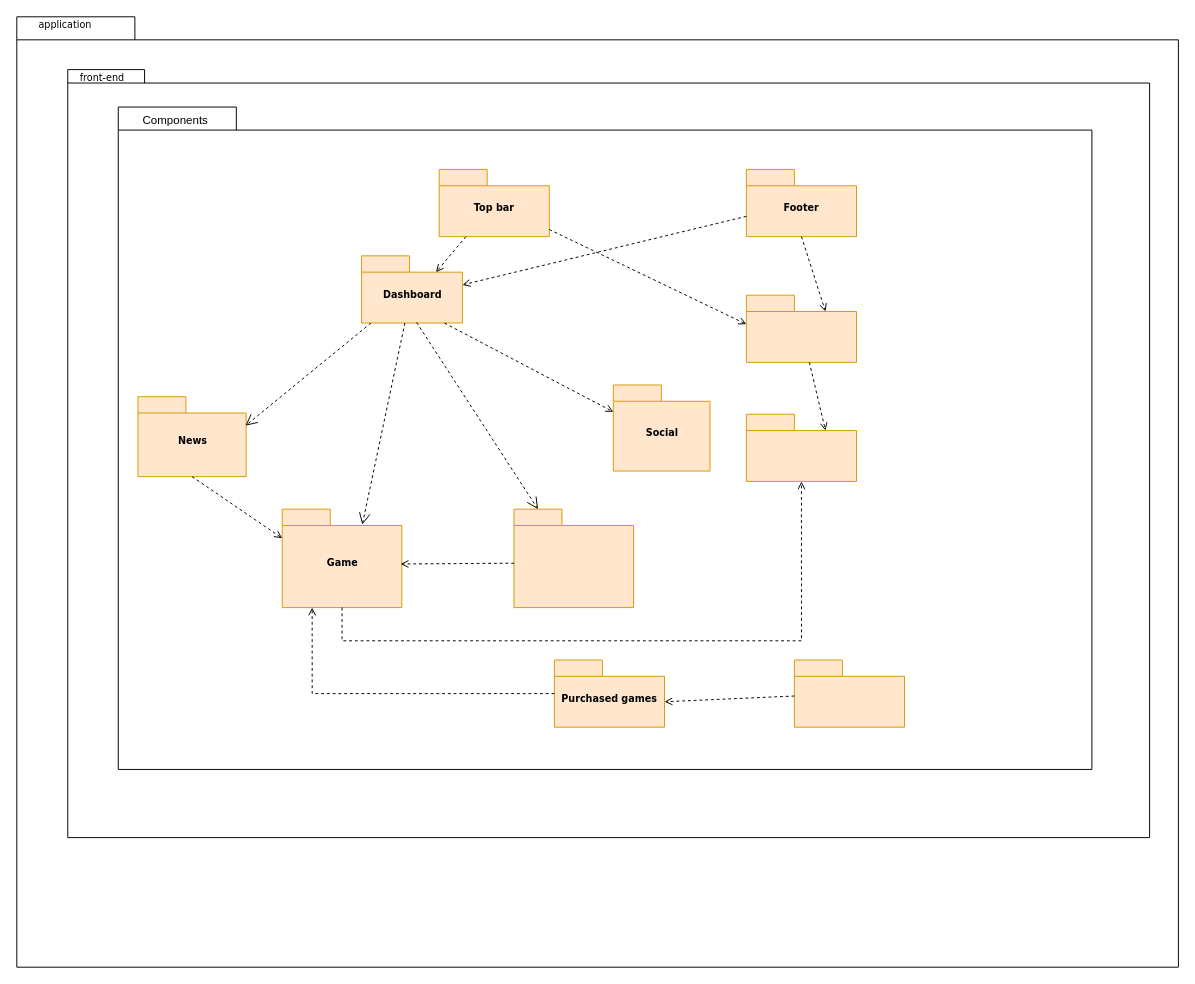
This 1195x984 diagram has some shape labels left out. Here are the shapes that lost their labels. From the top down, the centre of each, then its label:
the point at 801,328: Wishlist
the point at 801,447: Checkout
the point at 573,558: Highlights
the point at 849,693: User
